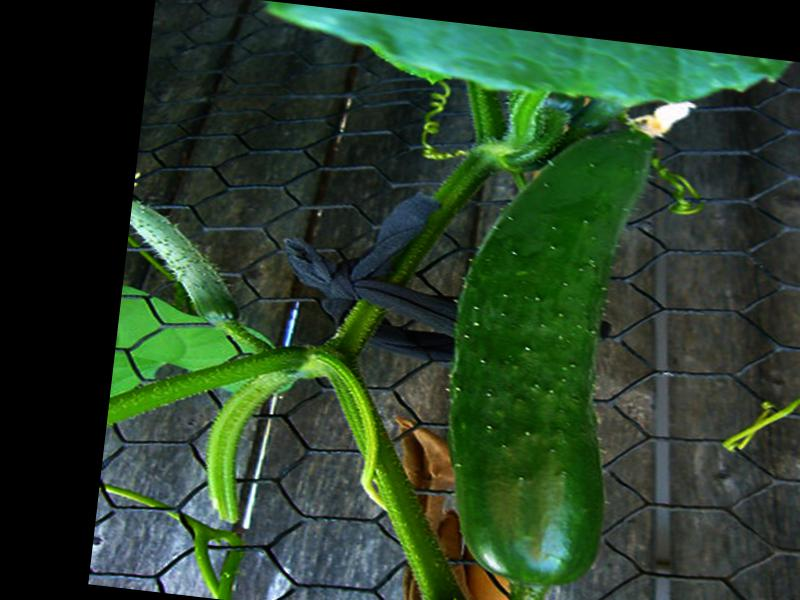Cucumber: (424, 115, 656, 592)
